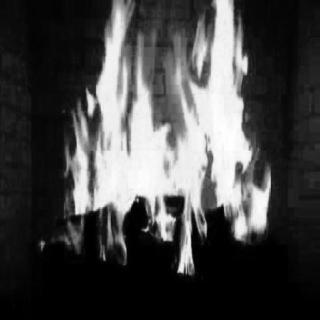Fire: (33, 0, 284, 276)
